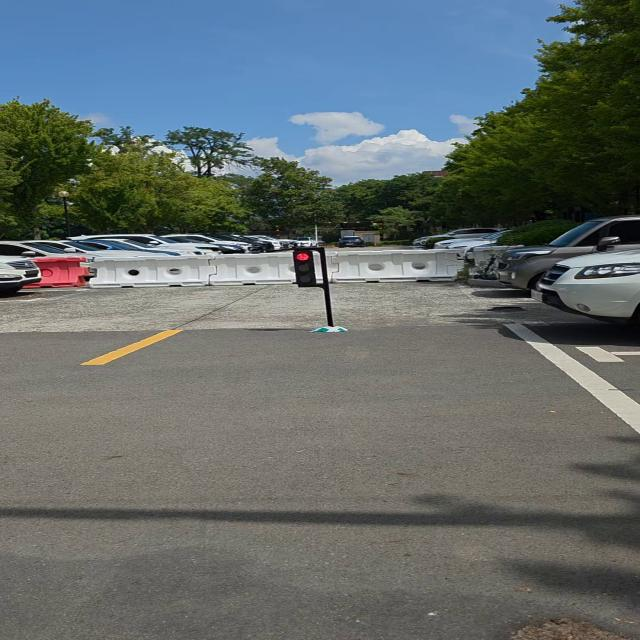red: (290, 250, 322, 289)
